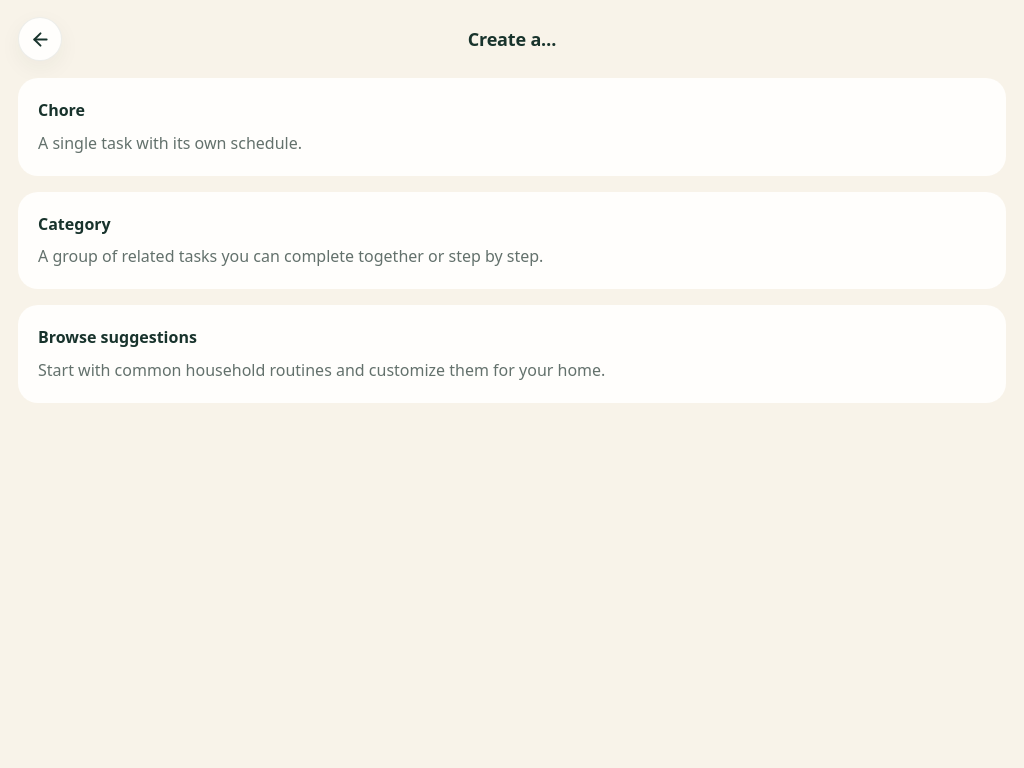
Test: Add chooser › asks Chore vs Category before any form and keeps standalone controls simple
Step 1. Click the button "Chore A single task with its own schedule." → (62, 110), box [18,78,1006,176]
(page scrolled)
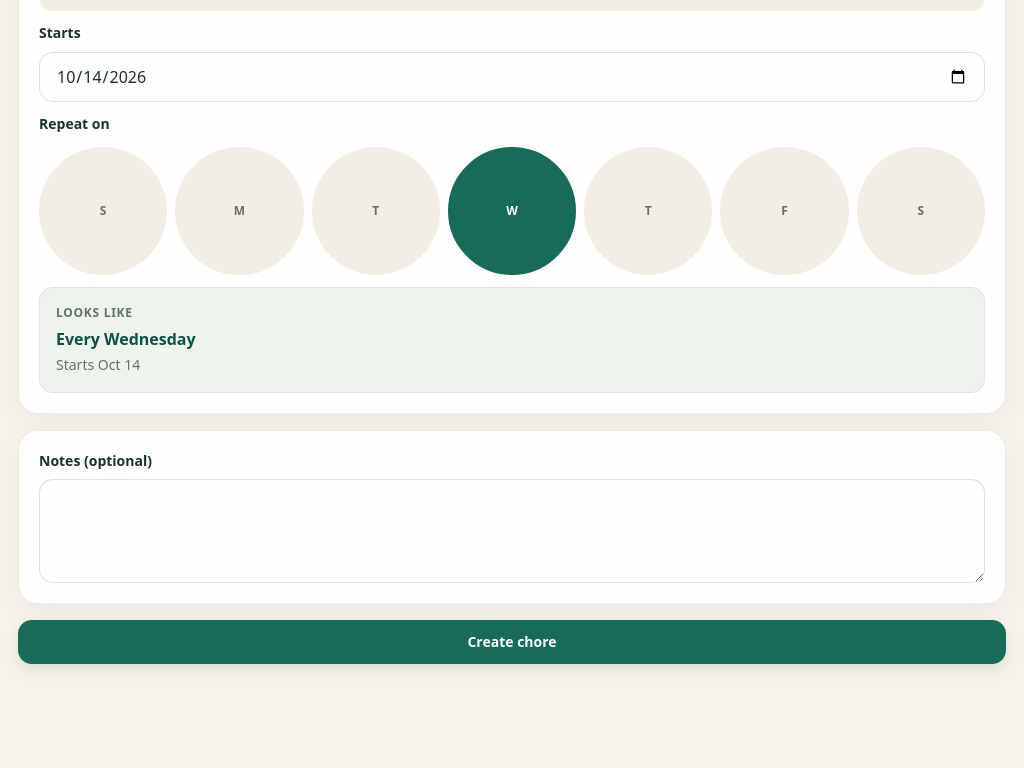
Check: the button "Create chore" is shown, box [18,620,1006,664]
